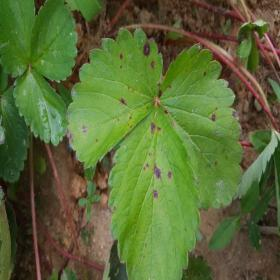Leaf Spot: (107, 101, 201, 279), (158, 42, 245, 211), (65, 25, 163, 169)
